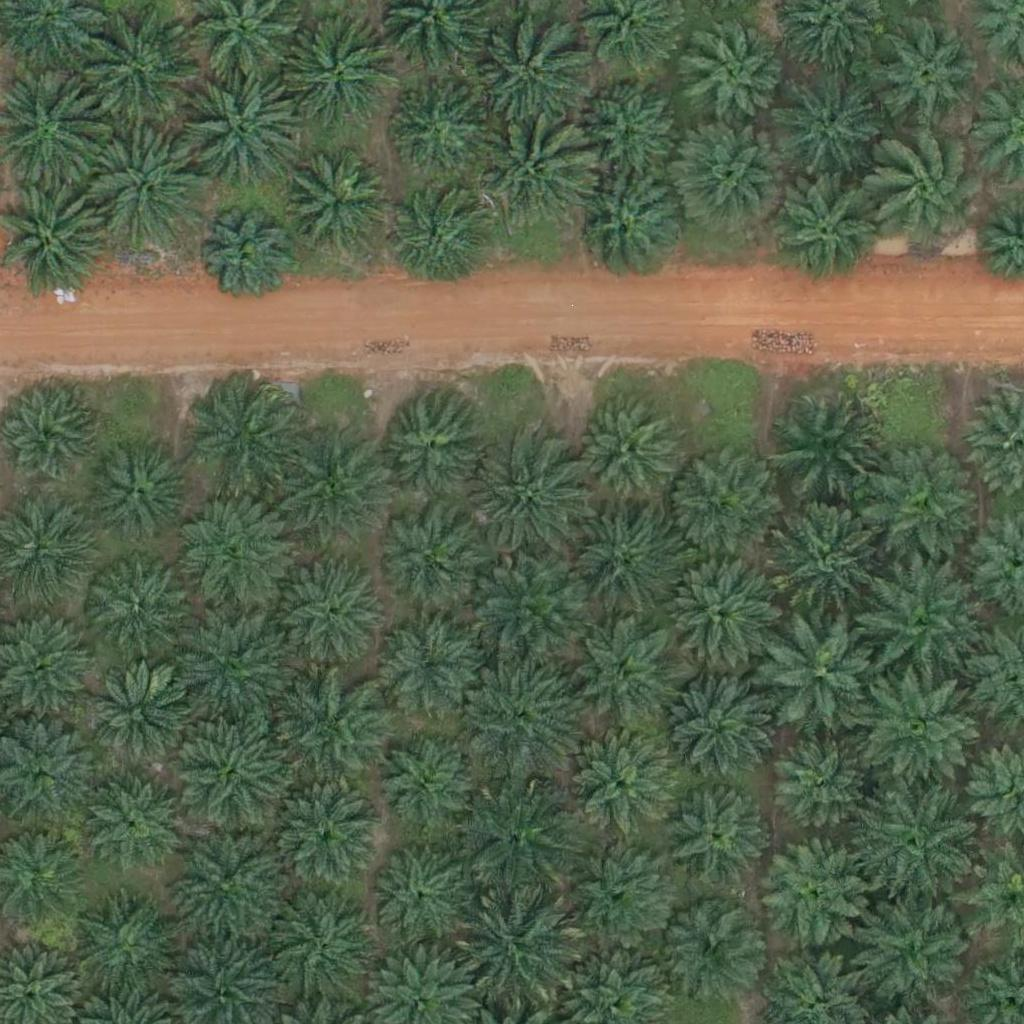Kelapa_Sawit: (867, 130, 992, 256), (867, 669, 980, 783), (764, 613, 877, 727), (572, 618, 685, 732), (265, 779, 378, 893), (88, 135, 201, 249), (862, 452, 975, 565), (753, 833, 866, 946), (665, 448, 778, 561), (666, 552, 779, 665), (659, 784, 772, 897), (654, 892, 767, 1005), (563, 507, 676, 620), (477, 553, 590, 666), (457, 657, 570, 770), (375, 500, 488, 613), (268, 436, 381, 549), (269, 557, 382, 670), (262, 897, 375, 1010), (182, 385, 295, 498), (175, 502, 288, 615), (179, 717, 292, 830), (172, 819, 285, 932), (67, 901, 180, 1014), (771, 68, 884, 181), (767, 175, 880, 288), (472, 12, 585, 125), (280, 16, 393, 129), (862, 898, 974, 1012), (570, 726, 682, 840), (373, 390, 485, 504), (865, 567, 977, 680), (861, 787, 973, 900), (774, 388, 886, 501), (767, 499, 879, 612), (660, 677, 772, 790), (563, 838, 675, 951), (471, 441, 583, 554), (464, 781, 576, 894), (465, 894, 577, 1007), (284, 669, 396, 782), (177, 613, 289, 726), (88, 664, 200, 777), (867, 19, 979, 132), (676, 123, 788, 236), (570, 169, 682, 282), (475, 117, 587, 230), (282, 153, 394, 266), (192, 74, 304, 187), (81, 9, 193, 122), (573, 401, 673, 502), (368, 839, 468, 940), (381, 623, 481, 724), (91, 437, 191, 538), (90, 566, 190, 667), (83, 775, 183, 876), (681, 25, 781, 126), (390, 82, 490, 183), (387, 191, 487, 292), (769, 733, 869, 833), (375, 738, 475, 838), (583, 72, 683, 172), (200, 215, 287, 303)
